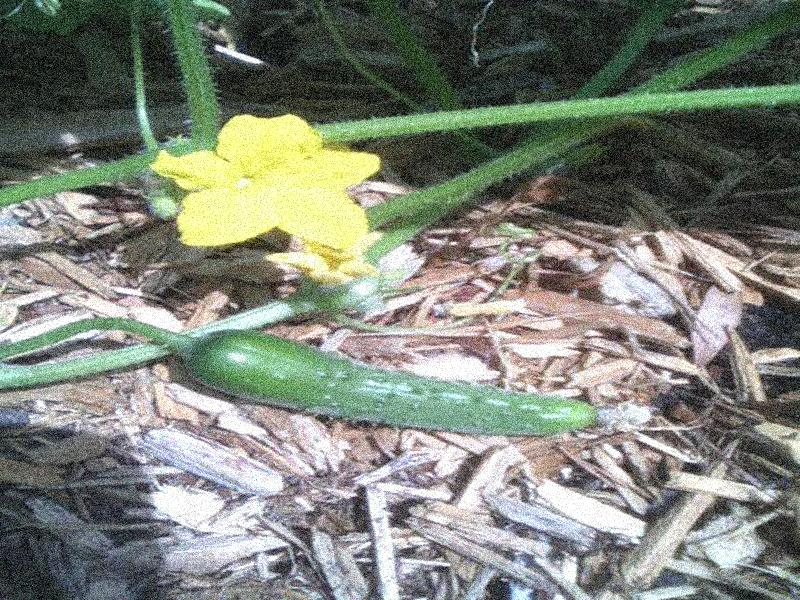Cucumber: (178, 329, 641, 439)
